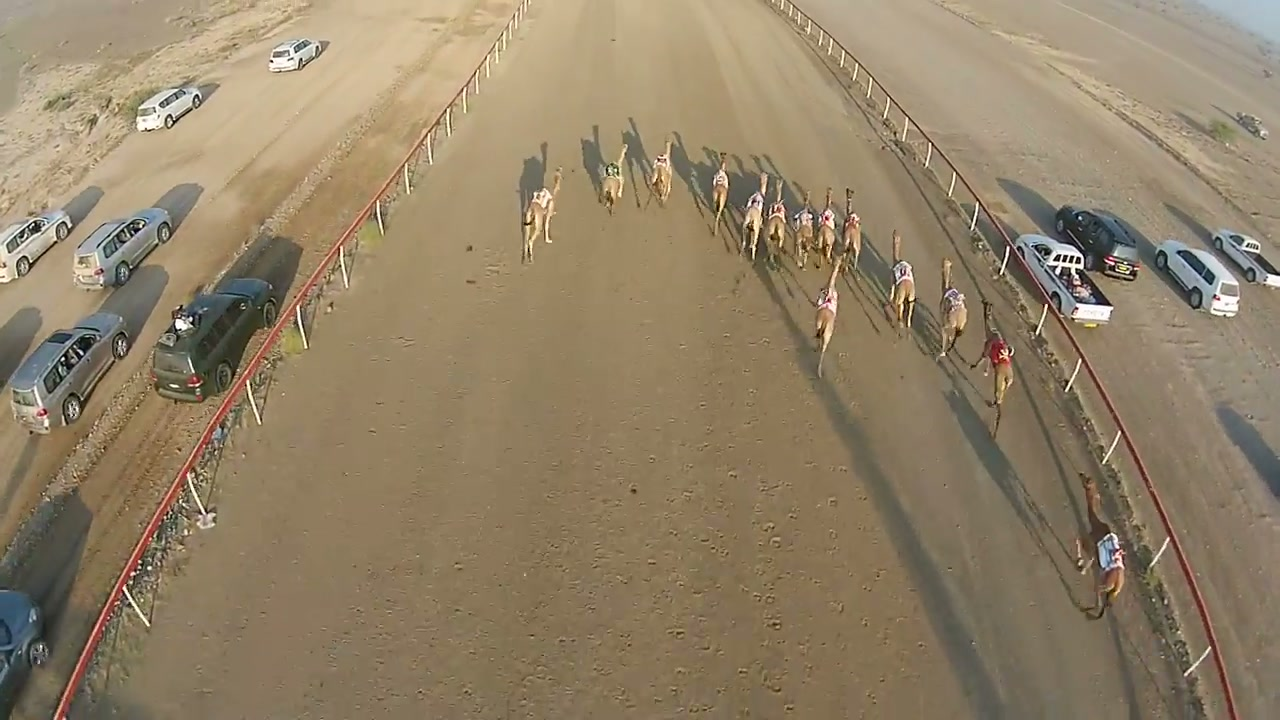animal_foot_print: (589, 280, 935, 719)
